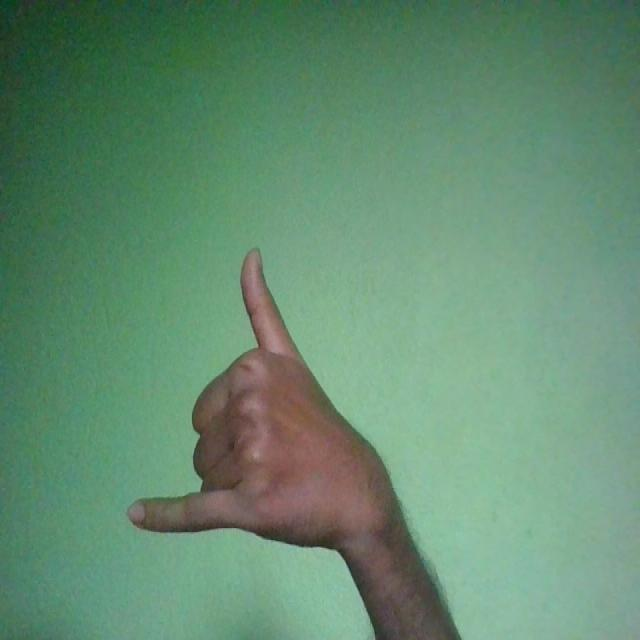Call Me: (128, 250, 407, 552)
